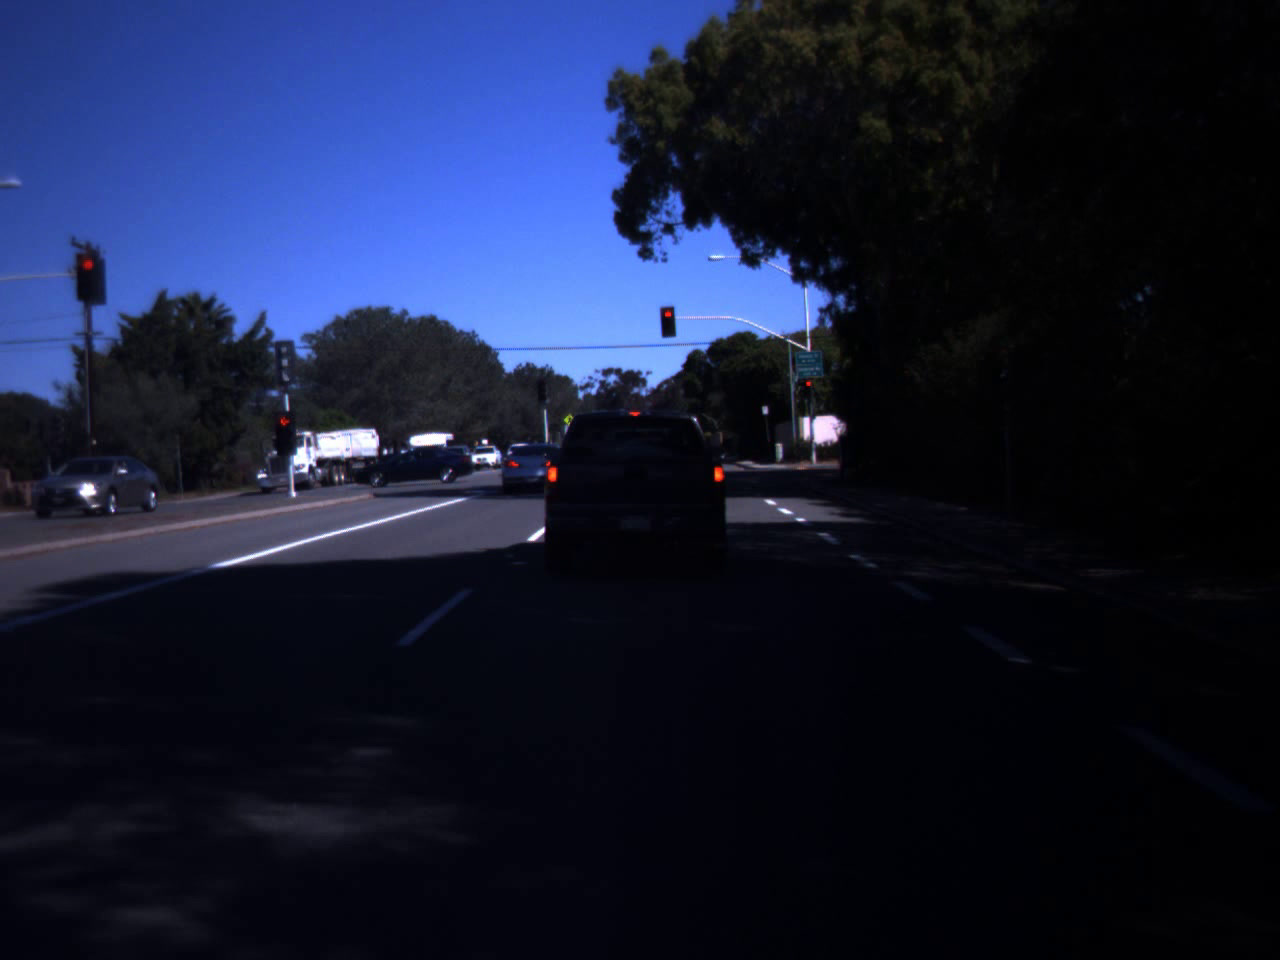stop: (76, 256, 100, 292), (274, 416, 295, 443), (659, 310, 677, 328), (802, 380, 814, 398)
